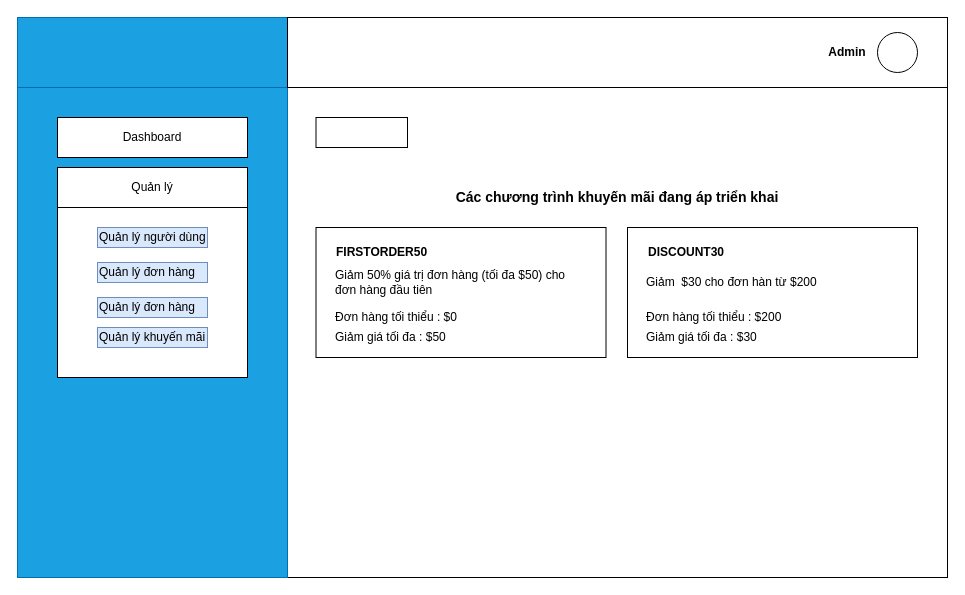
Some shapes in this 965 by 595 pixel diagram are drawn without their labels. Each missing label, with the centre of its shape:
Trang quản trị: (152,52)
Tạo mới: (361,132)
